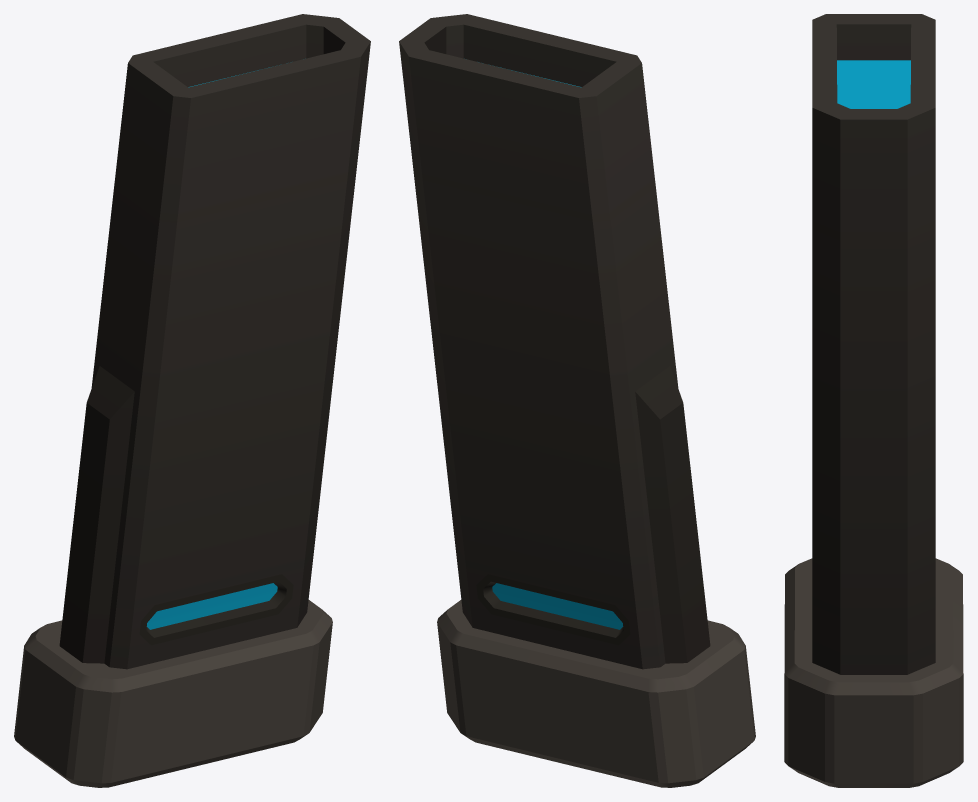
The model's file is SMG7_Magazine.fbx.
3 renders of one model, left to right at view 1: azimuth 30°, elevation 25°; view 2: azimuth 150°, elevation 25°; view 3: azimuth 270°, elevation 25°, orthographic. The views are drawn at different scales.
Visible parts, largest first — view 1: SMG7_Magazine; view 2: SMG7_Magazine; view 3: SMG7_Magazine.
Boxes of the visible parts, x1,y1,x2,y2 form: SMG7_Magazine: (14, 14, 370, 787); SMG7_Magazine: (399, 14, 755, 787); SMG7_Magazine: (784, 14, 963, 787).
Size of the model in its own units: 5.84 by 11.74 by 2.72.
